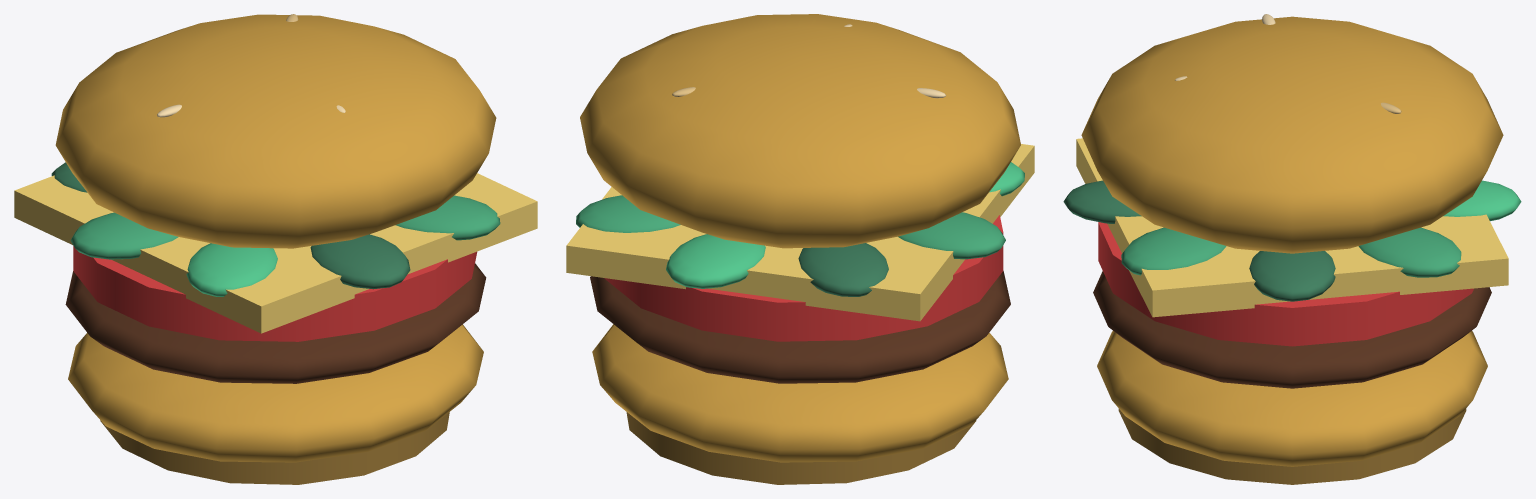
The model's file is CMU3DRMCFoodSnackCheeseburgerExtraCloud.glb.
3 renders of one model, left to right at view 1: azimuth 30°, elevation 25°; view 2: azimuth 150°, elevation 25°; view 3: azimuth 270°, elevation 25°, orthographic.
Parts seen in each view (by area): view 1: rounded golden bun crown, round lower bun, soft cheese square, seared patty mass, red tomato slice, toasted bun heel, ruffled green filling 7, ruffled green filling 6, ruffled green filling 5, ruffled green filling 8; view 2: rounded golden bun crown, round lower bun, seared patty mass, soft cheese square, red tomato slice, toasted bun heel, ruffled green filling 3, ruffled green filling 4, ruffled green filling 5, ruffled green filling 2, ruffled green filling 6; view 3: rounded golden bun crown, round lower bun, seared patty mass, soft cheese square, red tomato slice, toasted bun heel, ruffled green filling 1, ruffled green filling 2, ruffled green filling 8, ruffled green filling 7, ruffled green filling 3.
Part boxes in pixels (x1,y1,x2,y2): rounded golden bun crown: [55, 14, 496, 248]; round lower bun: [68, 324, 483, 462]; soft cheese square: [14, 173, 537, 333]; seared patty mass: [65, 263, 486, 383]; red tomato slice: [73, 246, 477, 341]; toasted bun heel: [100, 412, 449, 484]; ruffled green filling 7: [310, 234, 410, 289]; ruffled green filling 6: [186, 243, 277, 296]; ruffled green filling 5: [70, 212, 178, 259]; ruffled green filling 8: [395, 195, 500, 240]; rounded golden bun crown: [580, 14, 1020, 248]; round lower bun: [592, 324, 1008, 462]; seared patty mass: [590, 271, 1010, 383]; soft cheese square: [566, 144, 1034, 321]; red tomato slice: [604, 215, 1003, 341]; toasted bun heel: [626, 412, 976, 484]; ruffled green filling 3: [666, 234, 765, 288]; ruffled green filling 4: [798, 243, 888, 296]; ruffled green filling 5: [898, 212, 1005, 259]; ruffled green filling 2: [576, 195, 680, 232]; ruffled green filling 6: [989, 162, 1024, 196]; rounded golden bun crown: [1081, 16, 1503, 253]; round lower bun: [1097, 331, 1487, 466]; seared patty mass: [1093, 271, 1491, 388]; soft cheese square: [1076, 138, 1508, 317]; red tomato slice: [1098, 222, 1473, 346]; toasted bun heel: [1118, 408, 1466, 484]; ruffled green filling 1: [1249, 251, 1335, 301]; ruffled green filling 2: [1358, 227, 1461, 277]; ruffled green filling 8: [1121, 227, 1226, 275]; ruffled green filling 7: [1063, 180, 1141, 223]; ruffled green filling 3: [1443, 180, 1521, 221].
Size of the model in its own units: 0.356 by 0.304 by 0.356.
